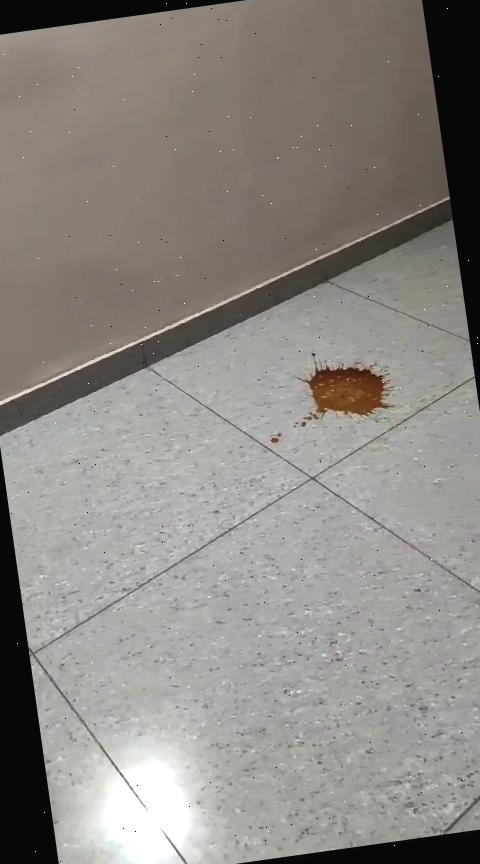dirty_floor: (262, 342, 400, 456)
